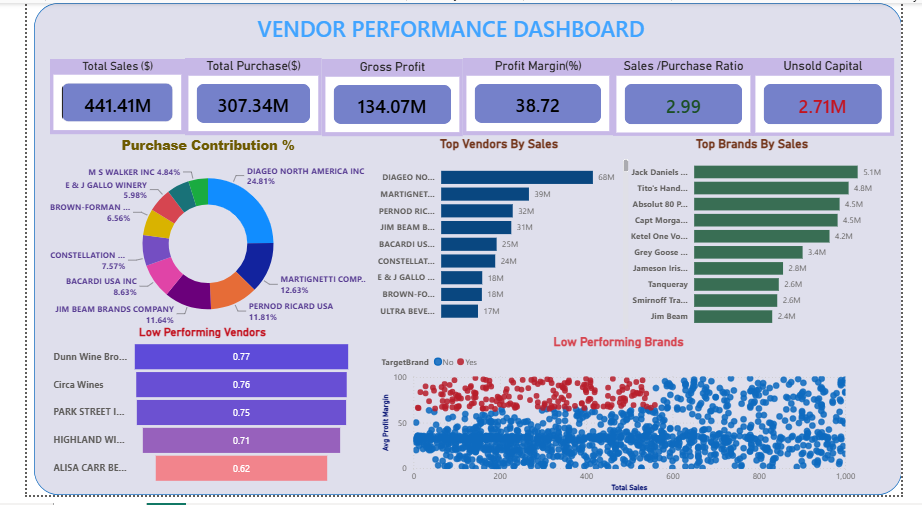

The dashboard page shown, as its layout file describes it:
{"tool":"powerbi","page":{"name":"Summary","canvas":[1280,720],"ordinal":0},"visuals":[{"type":"shape","box":[10.2,0,1270.2,720],"z":0},{"type":"cardVisual","title":"Total Sales ($)","fields":{"Data":["Sum(vendor_sales_summary.TotalSalesDollars)"]},"box":[33.7,82,197.6,109.8],"z":1000},{"type":"cardVisual","title":"Total Purchase($)","fields":{"Data":["Sum(vendor_sales_summary.TotalPurchaseDollars)"]},"box":[231.2,80.5,200.5,112.7],"z":2000},{"type":"cardVisual","title":"Gross Profit","fields":{"Data":["Sum(vendor_sales_summary.GrossProfit)"]},"box":[431.7,82,206.3,112.7],"z":3000},{"type":"cardVisual","title":"Profit Margin(%)","fields":{"Data":["Avg(vendor_sales_summary.ProfitMargin)"]},"box":[638,80.5,219.5,112.7],"z":4000},{"type":"cardVisual","title":"Unsold Capital","fields":{"Data":["Sum(vendor_sales_summary.UnsoldCapital)"]},"box":[1061,80.5,207.8,114.1],"z":5000},{"type":"textbox","box":[155.1,10.2,930.7,61.5],"z":6000},{"type":"donutChart","title":"Purchase Contribution %","fields":{"Category":["PurchaseContribution.VendorName"],"Y":["Sum(PurchaseContribution.PurchaseContribution %)"]},"box":[33.7,194.6,462.4,288.3],"z":7000},{"type":"clusteredBarChart","title":"Top Vendors By Sales","fields":{"Category":["vendor_sales_summary.VendorName"],"Y":["Sum(vendor_sales_summary.TotalSalesDollars)"]},"box":[496.1,194.6,389.3,288.3],"z":8000},{"type":"clusteredBarChart","title":"Top Brands By Sales","fields":{"Y":["Sum(vendor_sales_summary.TotalSalesDollars)"],"Category":["vendor_sales_summary.Description"]},"box":[866.3,194.6,389.3,288.3],"z":9000},{"type":"funnel","title":"Low Performing Vendors","fields":{"Category":["LowTurnoverVendor.VendorName"],"Y":["Sum(LowTurnoverVendor.AvgStockTurnOver)"]},"box":[33.7,471.2,446.3,237.1],"z":10000},{"type":"scatterChart","title":"Low Performing Brands","fields":{"X":["Sum(BrandPerformance.TotalSales)"],"Category":["BrandPerformance.Description"],"Y":["Sum(BrandPerformance.AvgProfitMargin)"],"Series":["BrandPerformance.TargetBrand"]},"box":[513.7,484.4,703.9,235.6],"z":11000},{"type":"cardVisual","title":"Sales /Purchase Ratio","fields":{"Data":["Avg(vendor_sales_summary.SalestoPurchaseRatio)"]},"box":[857.6,80.5,206.3,114.1],"z":12000}]}

Visuals, with their boxes in screenshot pixels (x1, y1, x2, y2), scaled from the page's 1280x720 canvas onto the 922x505 screenshot:
shape: crop(7, 0, 921, 504)
"Total Sales ($)" cardVisual: crop(24, 58, 167, 135)
"Total Purchase($)" cardVisual: crop(167, 56, 311, 136)
"Gross Profit" cardVisual: crop(311, 58, 460, 137)
"Profit Margin(%)" cardVisual: crop(460, 56, 618, 136)
"Unsold Capital" cardVisual: crop(764, 56, 914, 136)
textbox: crop(112, 7, 782, 50)
"Purchase Contribution %" donutChart: crop(24, 136, 357, 339)
"Top Vendors By Sales" clusteredBarChart: crop(357, 136, 638, 339)
"Top Brands By Sales" clusteredBarChart: crop(624, 136, 904, 339)
"Low Performing Vendors" funnel: crop(24, 330, 346, 497)
"Low Performing Brands" scatterChart: crop(370, 340, 877, 504)
"Sales /Purchase Ratio" cardVisual: crop(618, 56, 766, 136)
